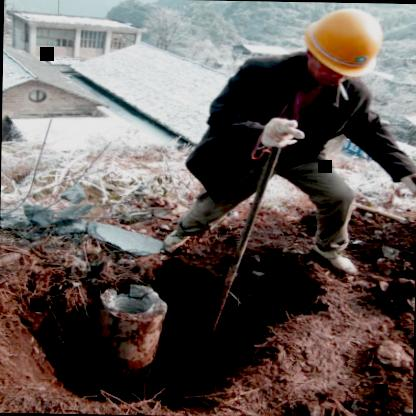helmet: (291, 5, 388, 89)
